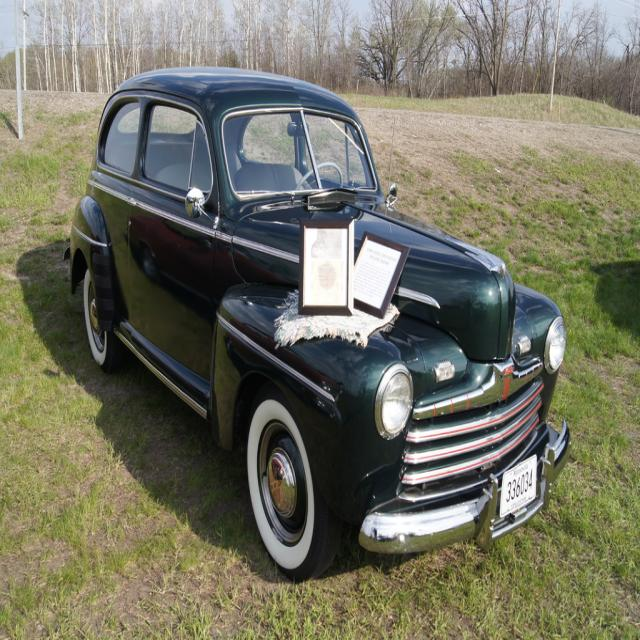car: (60, 48, 586, 576)
